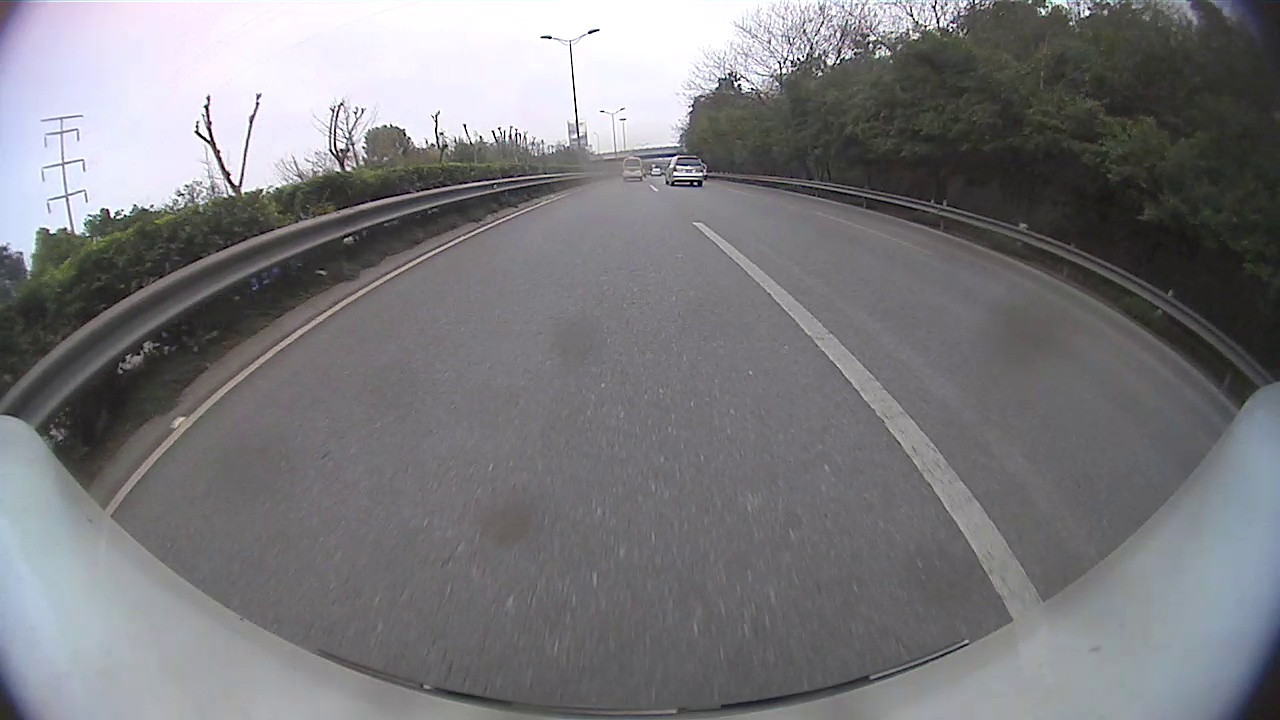car: (664, 155, 705, 186), (621, 156, 643, 181), (701, 162, 708, 180)
